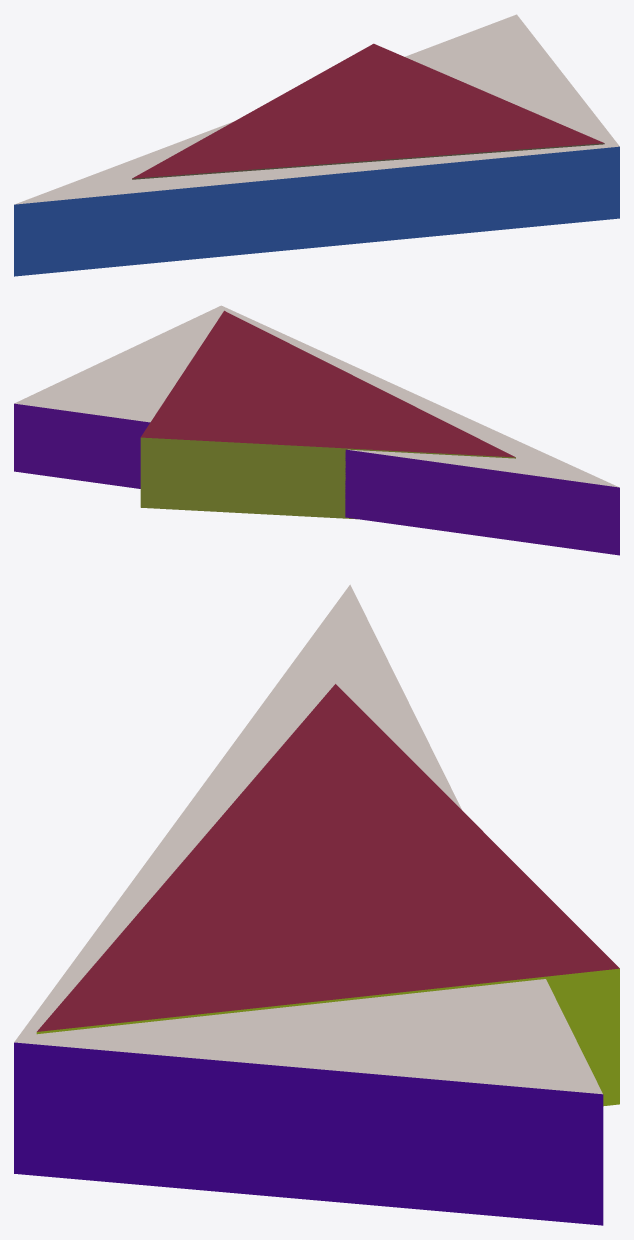
File: GlassShards.fbx
3 renders of one model, top to bottom at view 1: azimuth 30°, elevation 25°; view 2: azimuth 150°, elevation 25°; view 3: azimuth 270°, elevation 25°, orthographic. The views are drawn at different scales.
Visible parts, largest first — view 1: GlassShard1, GlassShard2; view 2: GlassShard1, GlassShard2; view 3: GlassShard1, GlassShard2.
Part boxes in pixels (x1,y1,x2,y2): GlassShard1: (14,14,619,276); GlassShard2: (132,43,604,179); GlassShard1: (14,305,619,555); GlassShard2: (140,310,515,519); GlassShard1: (14,584,603,1225); GlassShard2: (36,684,619,1106).
Size of the model in its own units: 55.43 by 6.88 by 27.84.
